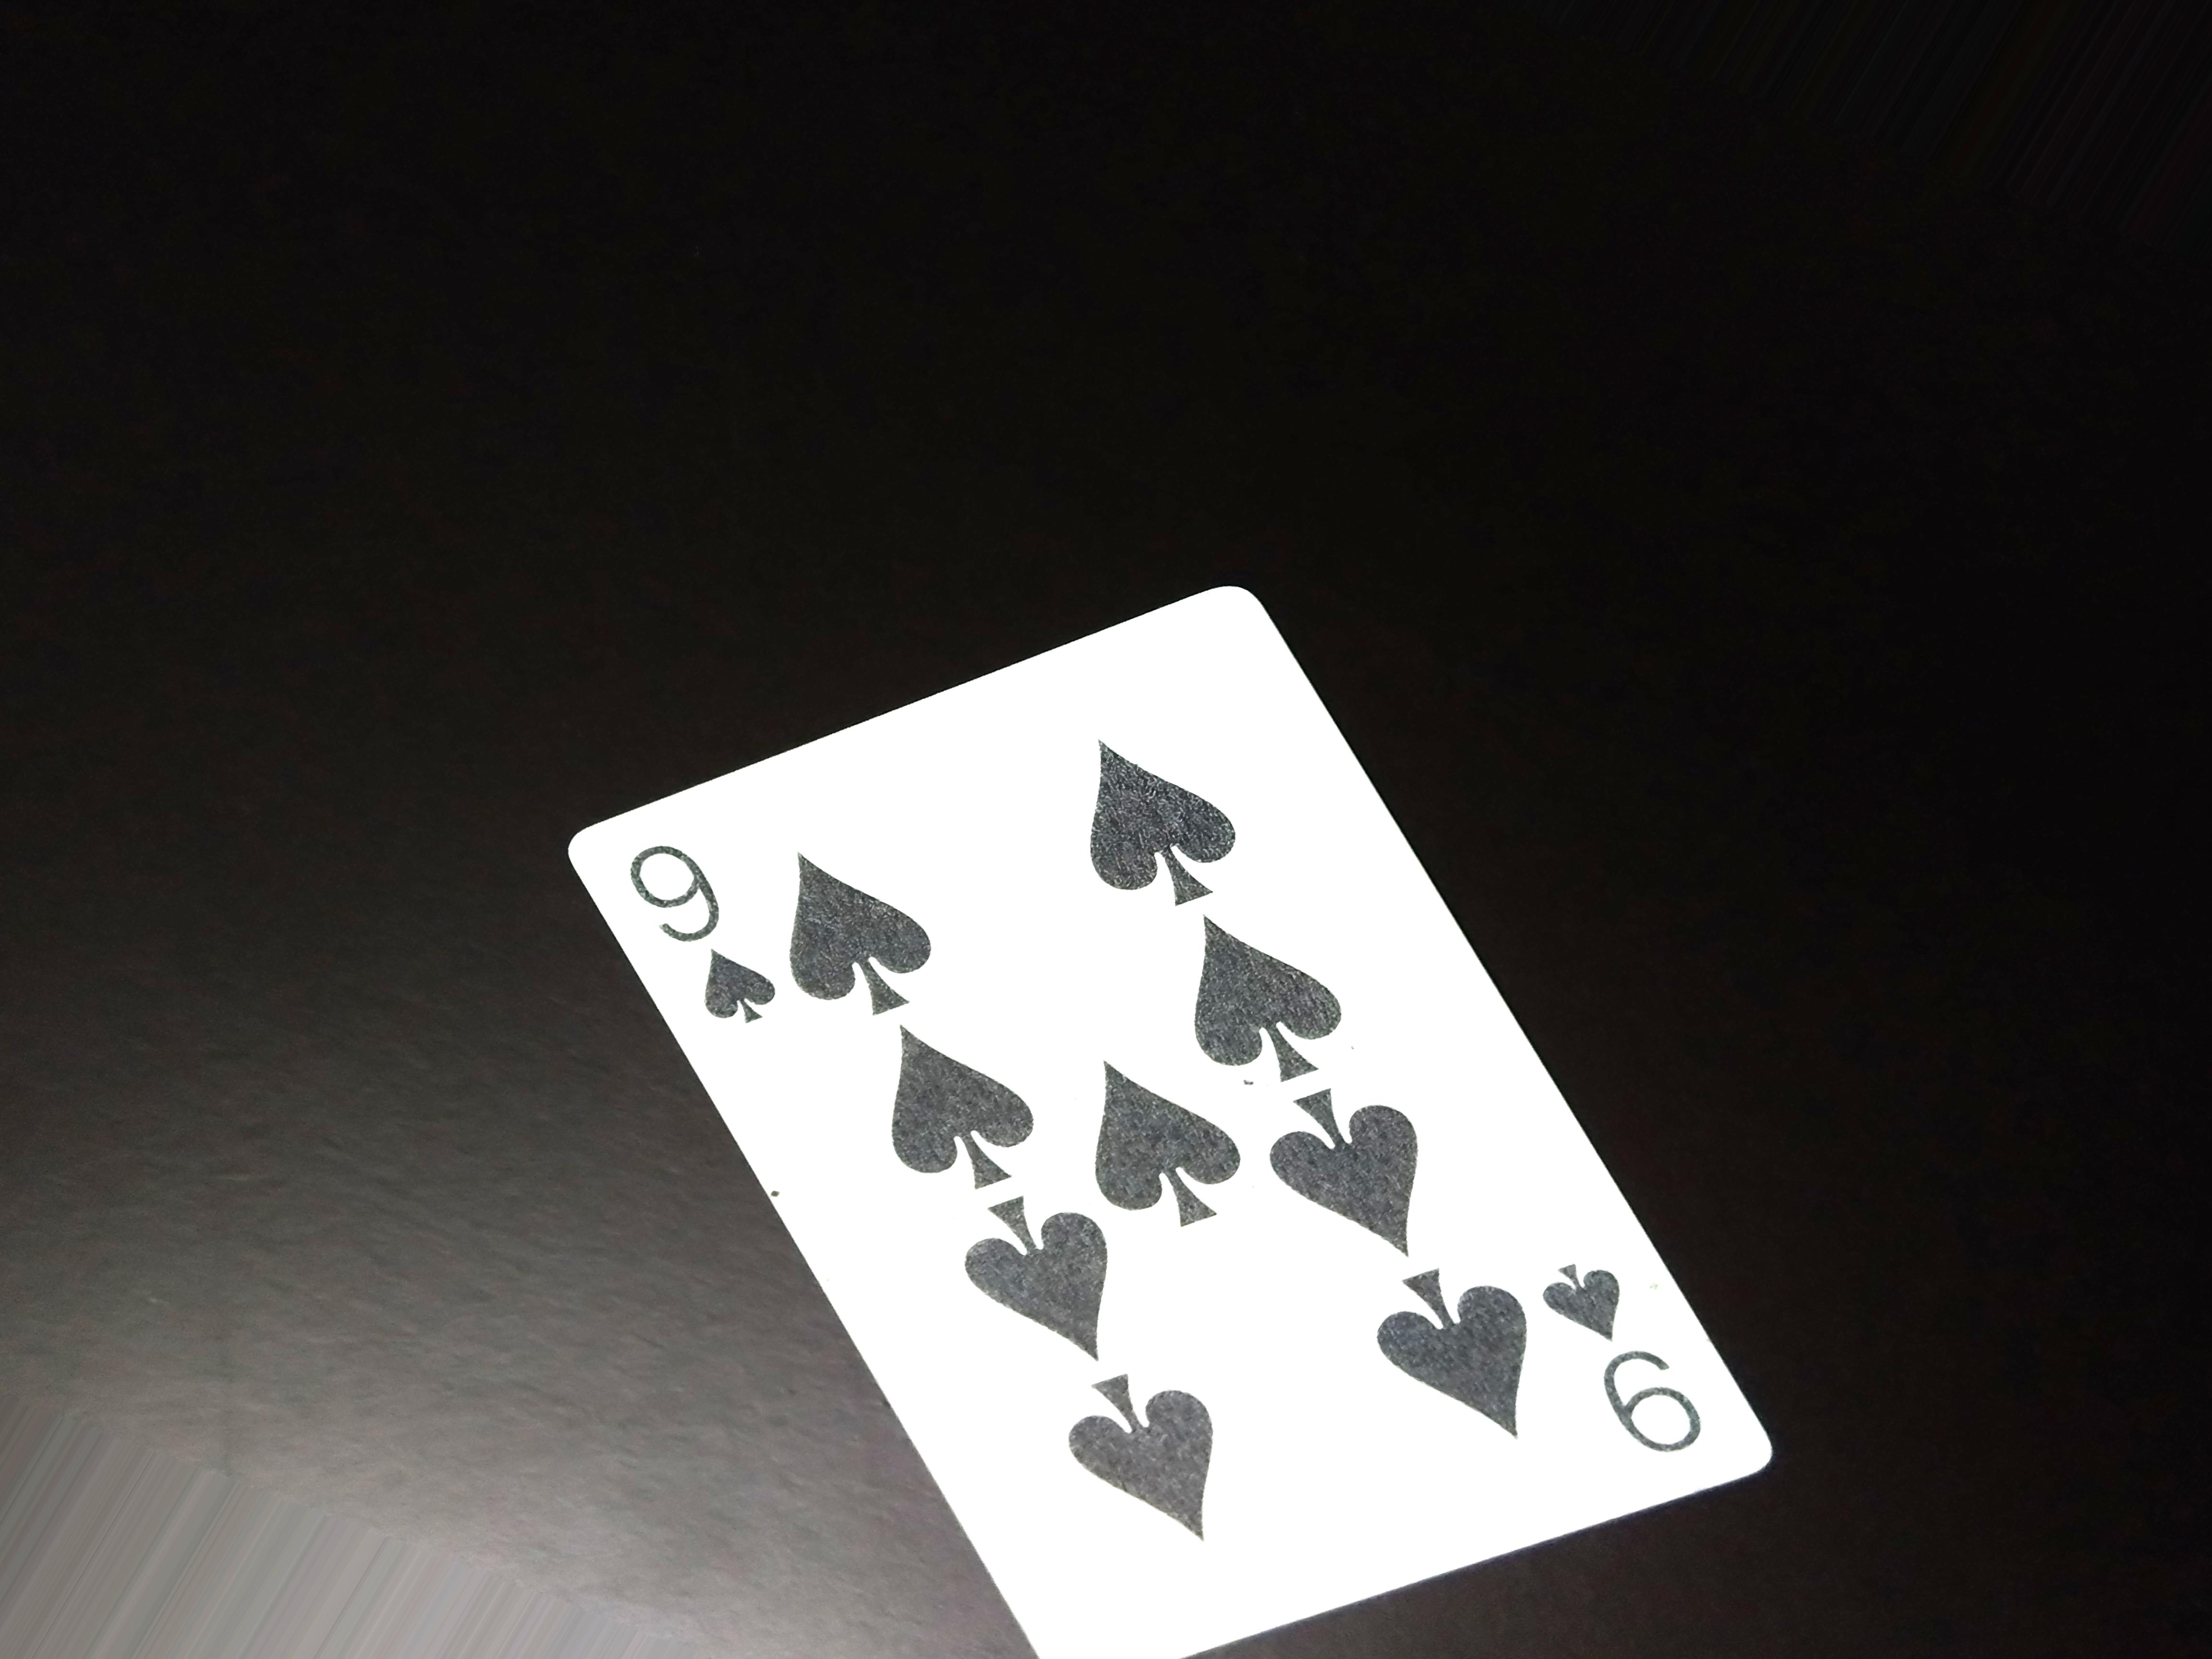9S: (603, 828, 787, 1030)
